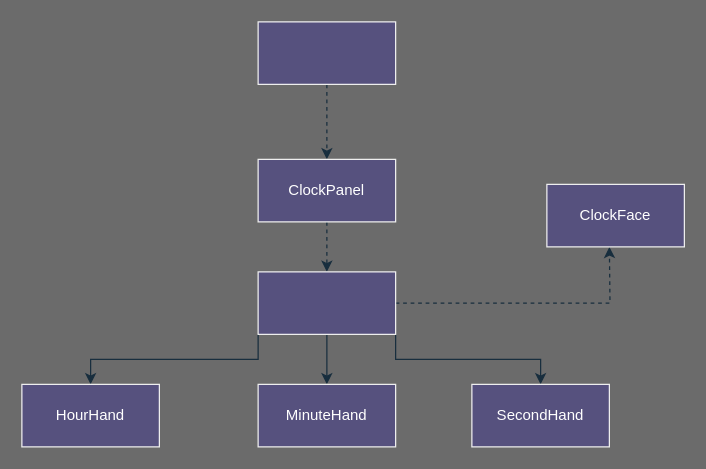
This 706x469 diagram has some shape labels left out. The shapes that lost their labels are listed below. From the top down, each one's centre as x and y in pixels, then its label:
point (326, 52): ClockFrame
point (326, 302): ClockHand
